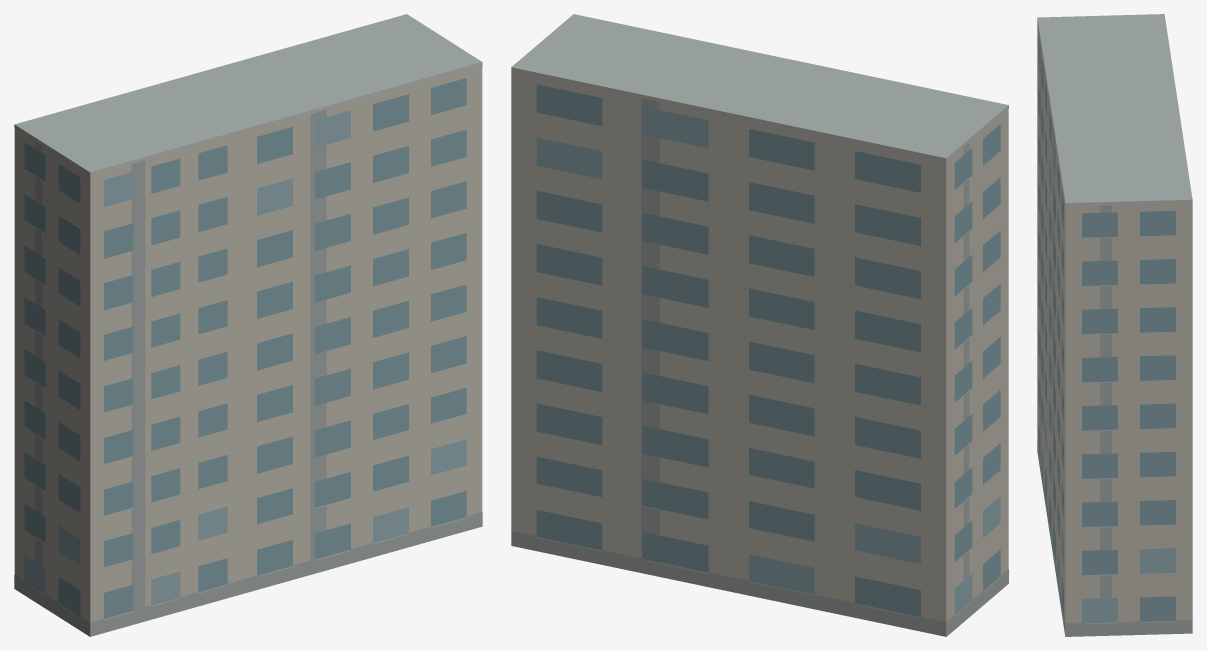
File: residential-e78e6868-9428-4d56-969e-a345b006cb36.glb
3 renders of one model, left to right at view 1: azimuth 30°, elevation 25°; view 2: azimuth 150°, elevation 25°; view 3: azimuth 270°, elevation 25°, orthographic. The views are drawn at different scales.
Visible parts, largest first — view 1: residential-e78e6868-9428-4d56-969e-a345b006cb36.tmp; view 2: residential-e78e6868-9428-4d56-969e-a345b006cb36.tmp; view 3: residential-e78e6868-9428-4d56-969e-a345b006cb36.tmp.
Part boxes in pixels (x1=…): residential-e78e6868-9428-4d56-969e-a345b006cb36.tmp: x1=14, y1=14, x2=482, y2=636; residential-e78e6868-9428-4d56-969e-a345b006cb36.tmp: x1=511, y1=14, x2=1008, y2=636; residential-e78e6868-9428-4d56-969e-a345b006cb36.tmp: x1=1037, y1=14, x2=1192, y2=636.
Bounding box in the file's own units: 28.99 × 31 × 10.06.
